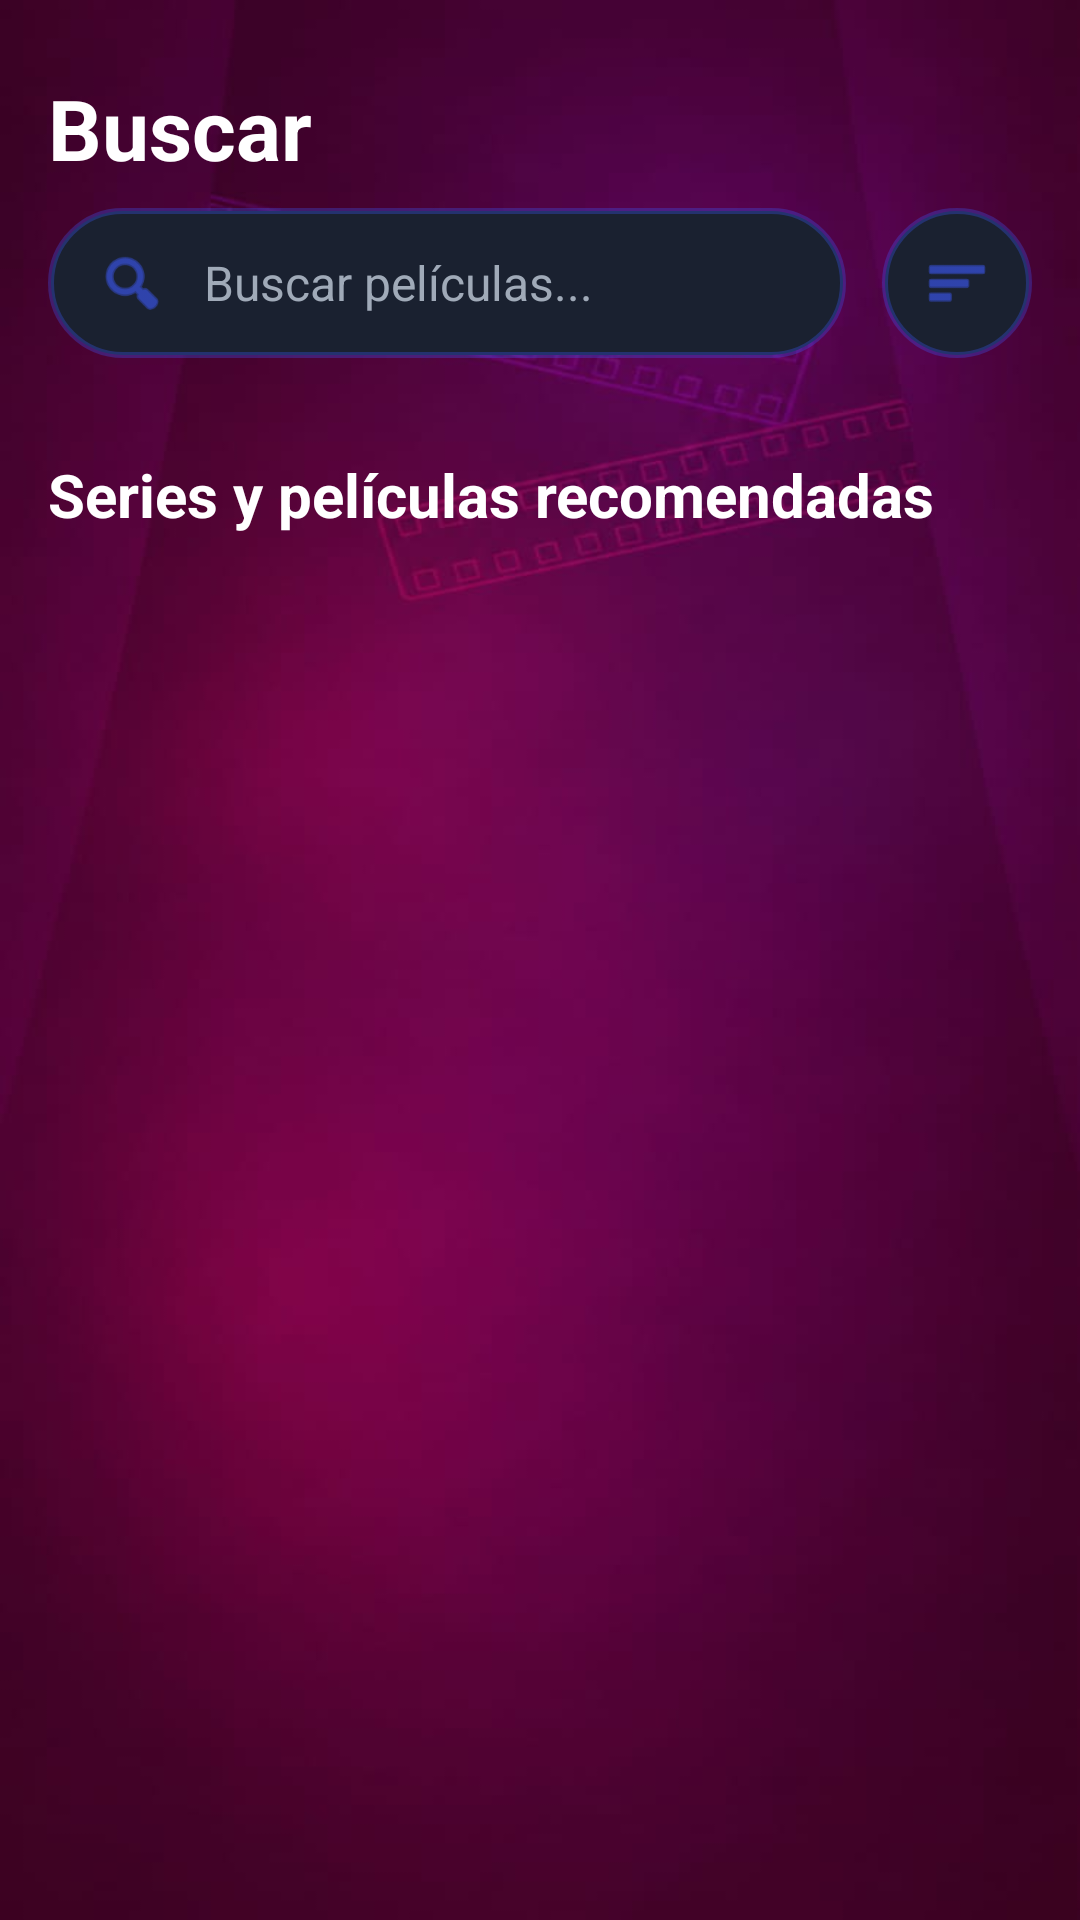

Screen size 1080px x 1920px. Icon name, then its box in pixels as (x1=x1, y1=y1, x2=x2, y2=y2):
sort by size: (x1=882, y1=208, x2=1032, y2=358)
